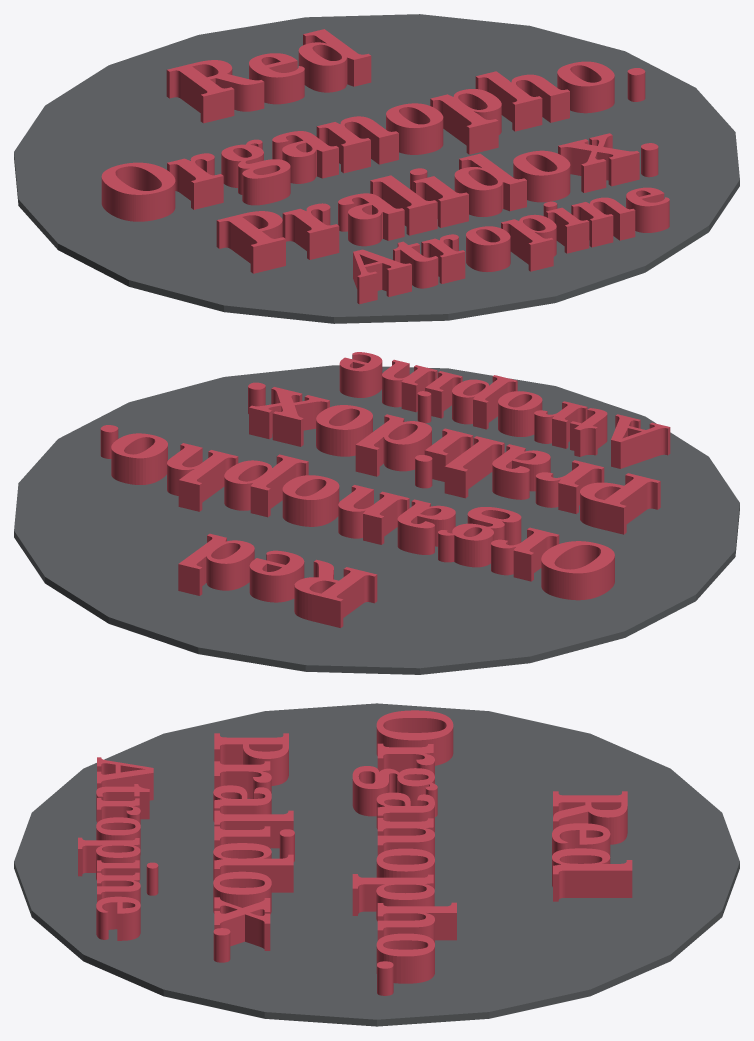
Rendered from newyork.gltf.
The picture shows the model from 3 angles, top to bottom: view 1: azimuth 30°, elevation 25°; view 2: azimuth 150°, elevation 25°; view 3: azimuth 270°, elevation 25°; orthographic projection.
Parts seen in each view (by area): view 1: Mesh_Mesh_head_geo001_lambert2SG001; view 2: Mesh_Mesh_head_geo001_lambert2SG001; view 3: Mesh_Mesh_head_geo001_lambert2SG001.
Part boxes in pixels (x1=…): Mesh_Mesh_head_geo001_lambert2SG001: x1=14, y1=14, x2=739, y2=323; Mesh_Mesh_head_geo001_lambert2SG001: x1=14, y1=352, x2=739, y2=674; Mesh_Mesh_head_geo001_lambert2SG001: x1=14, y1=703, x2=739, y2=1026.
Size of the model in its own units: 199 by 10 by 193.
